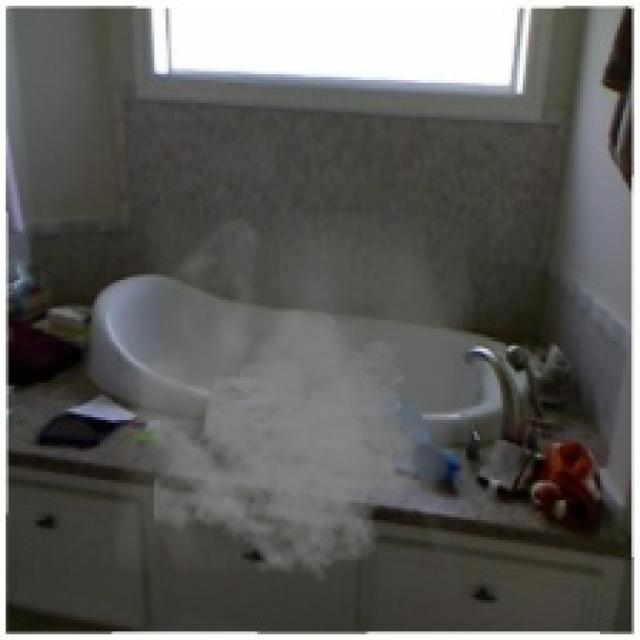smoke: (114, 211, 474, 583)
